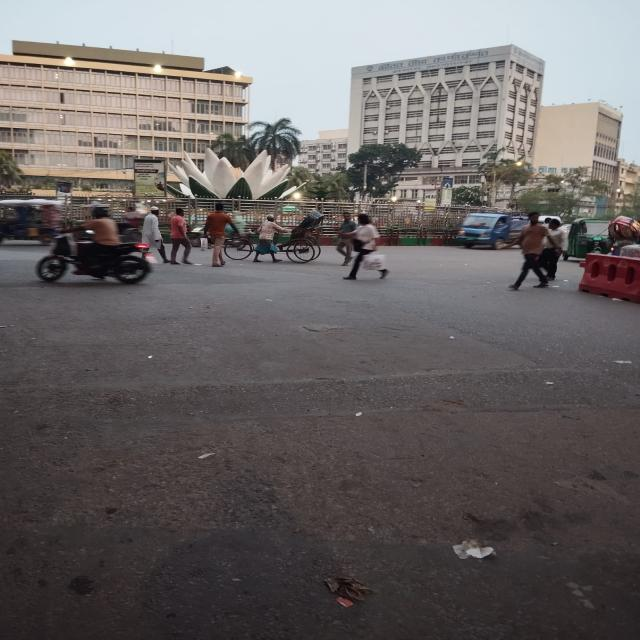person: (505, 212, 558, 290), (339, 213, 388, 280), (203, 202, 239, 267), (540, 220, 568, 280), (142, 206, 170, 264), (170, 208, 192, 265), (336, 214, 357, 266)
